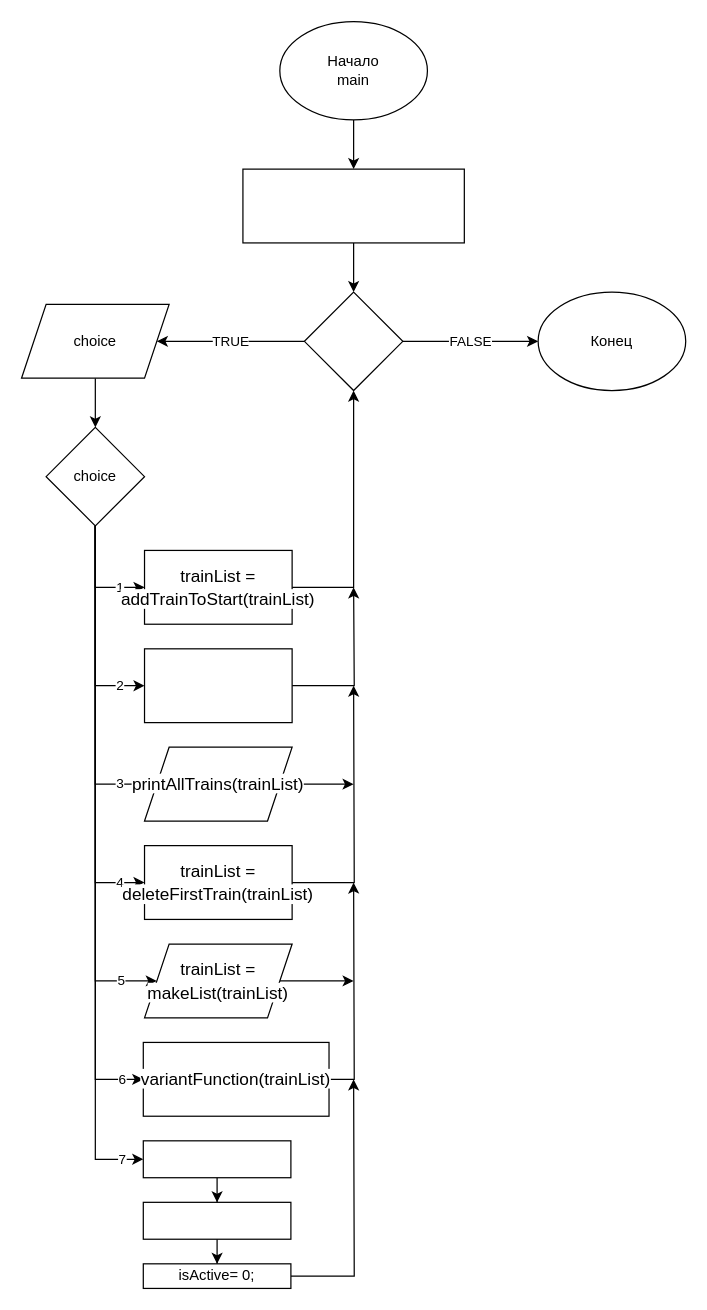
Image size: 707x1310. Some labels were removed from this diagram. The centre of each missing label's shape, as x and y in pixels:
"freeList(trainList)" belongs at point 216,1220.
"isActive" belongs at point 353,341.
"saveList(trainList)" belongs at point 216,1159.
"trainList = addTrain(trainList)" belongs at point 217,685.
"trainList = setList()" belongs at point 353,205.
